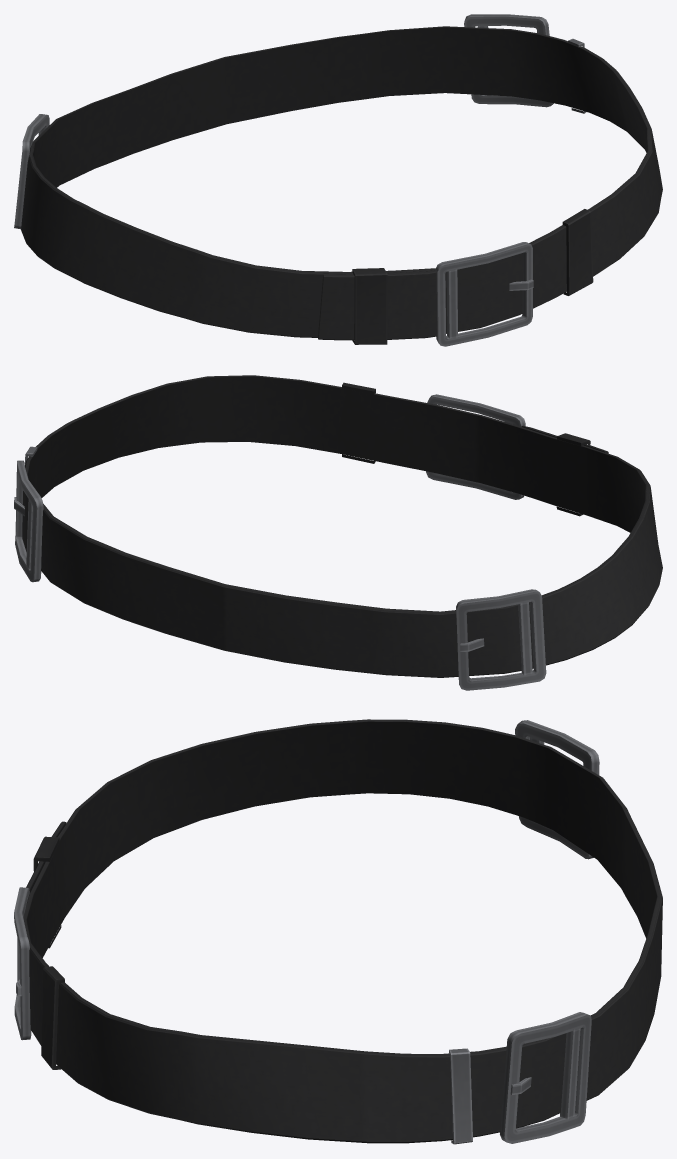
The model's file is aporia_jumpsuit_hardware_v2.glb.
The picture shows the model from 3 angles, top to bottom: view 1: azimuth 30°, elevation 25°; view 2: azimuth 150°, elevation 25°; view 3: azimuth 270°, elevation 25°; orthographic projection. The views are drawn at different scales.
Parts seen in each view (by area): view 1: belt_strap, belt_tail, belt_keepers, belt_buckle, belt_hip_buckles; view 2: belt_strap, belt_hip_buckles, belt_buckle, belt_keepers; view 3: belt_strap, belt_hip_buckles, belt_keepers, belt_buckle.
Part boxes in pixels (<box>): belt_strap: <box>21,26,662,337</box>; belt_tail: <box>318,270,437,340</box>; belt_keepers: <box>352,38,593,344</box>; belt_buckle: <box>435,242,533,346</box>; belt_hip_buckles: <box>14,14,553,229</box>; belt_strap: <box>22,375,662,677</box>; belt_hip_buckles: <box>14,460,546,690</box>; belt_buckle: <box>426,394,525,499</box>; belt_keepers: <box>24,382,590,516</box>; belt_strap: <box>23,719,662,1143</box>; belt_hip_buckles: <box>500,720,599,1143</box>; belt_keepers: <box>33,836,472,1144</box>; belt_buckle: <box>14,887,31,1040</box>.
Bounding box in the file's own units: 0.2843 × 0.0521 × 0.222.
1 material, 1 textured.
